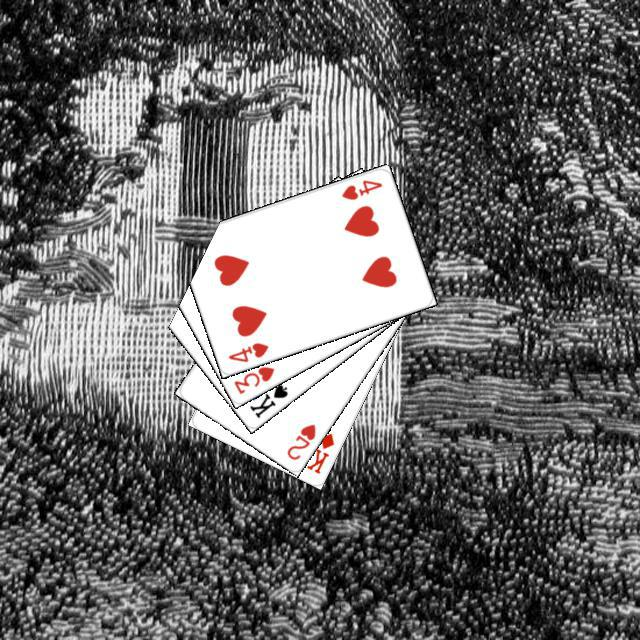2h: (282, 419, 317, 462)
3h: (229, 361, 276, 396)
4h: (223, 337, 270, 364), (337, 175, 384, 202)
Kd: (301, 428, 336, 476)
Ks: (244, 379, 289, 420)
